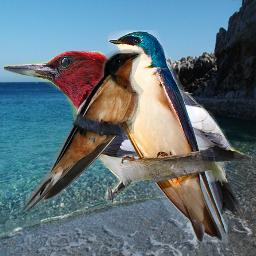Swallow: (108, 30, 228, 243), (18, 48, 144, 213)
Woodpecker: (4, 51, 252, 227)
